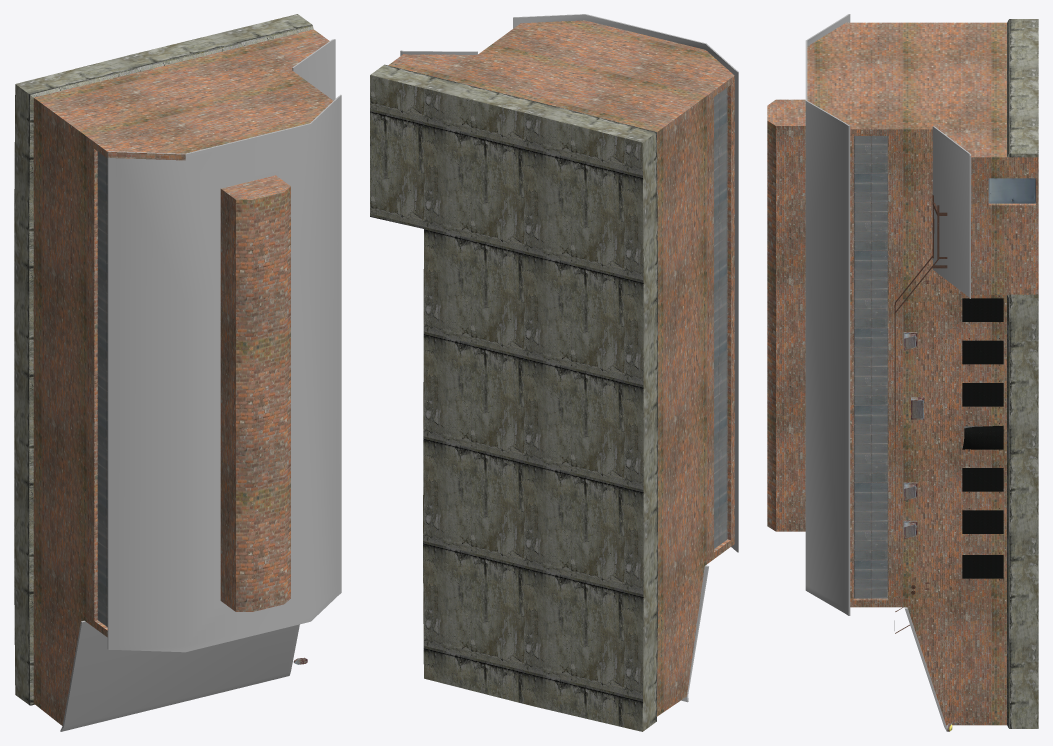
Rendered from lagerhalle_3_LOD1.fbx.
3 renders of one model, left to right at view 1: azimuth 30°, elevation 25°; view 2: azimuth 150°, elevation 25°; view 3: azimuth 270°, elevation 25°, orthographic. The views are drawn at different scales.
Parts seen in each view (by area): view 1: MDL-Box011; view 2: MDL-Box011; view 3: MDL-Box011.
Part boxes in pixels (<box>): MDL-Box011: <box>14,14,341,731</box>; MDL-Box011: <box>370,14,738,731</box>; MDL-Box011: <box>767,14,1038,731</box>.
Size of the model in its own units: 24.5 by 50.02 by 20.25.
